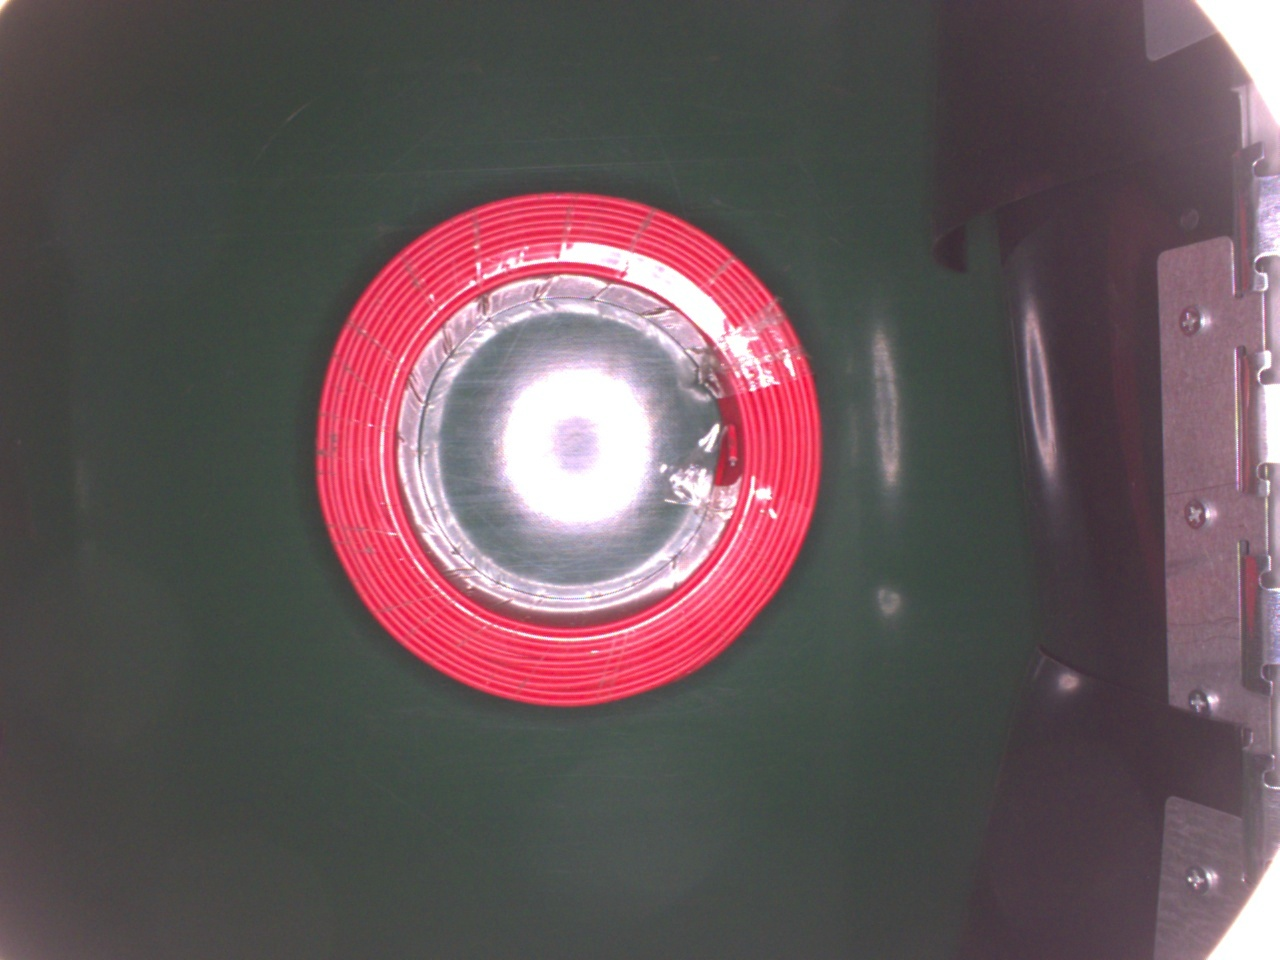red: (311, 190, 822, 710)
